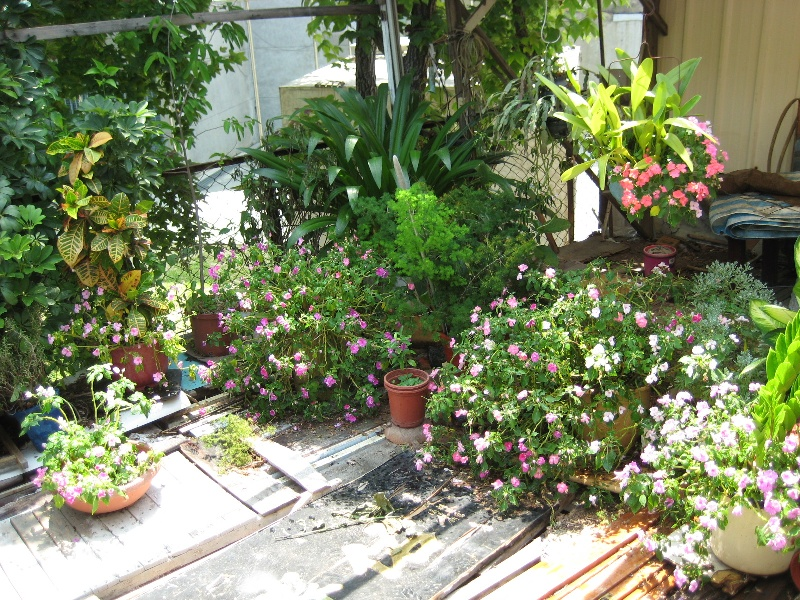bucket: (645, 243, 678, 280)
plastic_bag: (711, 193, 800, 238)
